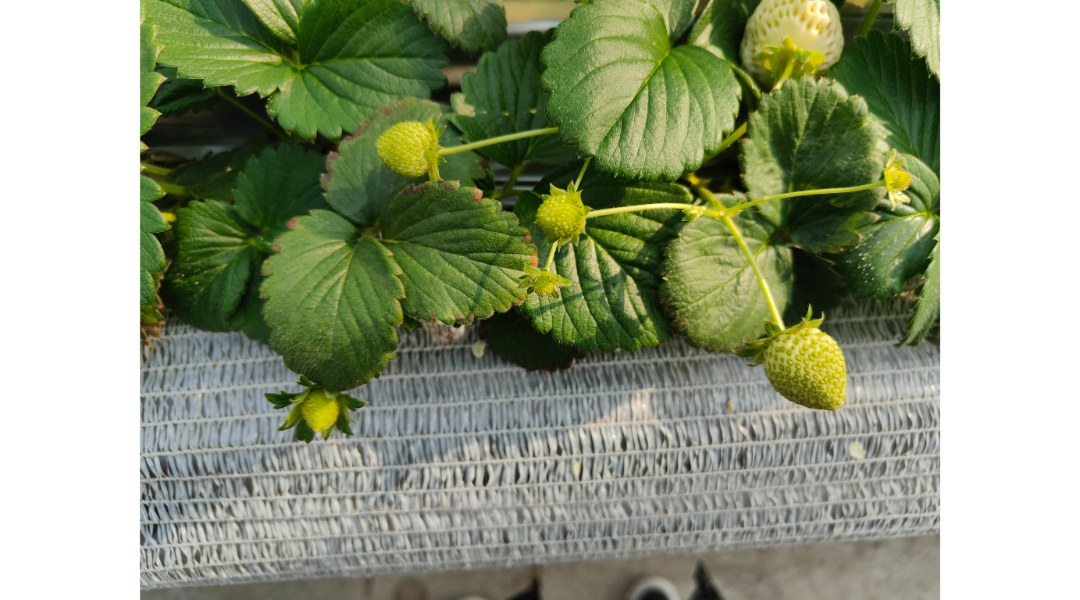berry: (720, 0, 855, 87), (736, 316, 850, 415), (273, 360, 370, 466), (515, 170, 598, 251), (372, 108, 438, 196), (879, 127, 913, 225)
strain: (426, 122, 567, 171), (739, 172, 876, 214), (729, 227, 777, 336), (581, 192, 701, 225)
